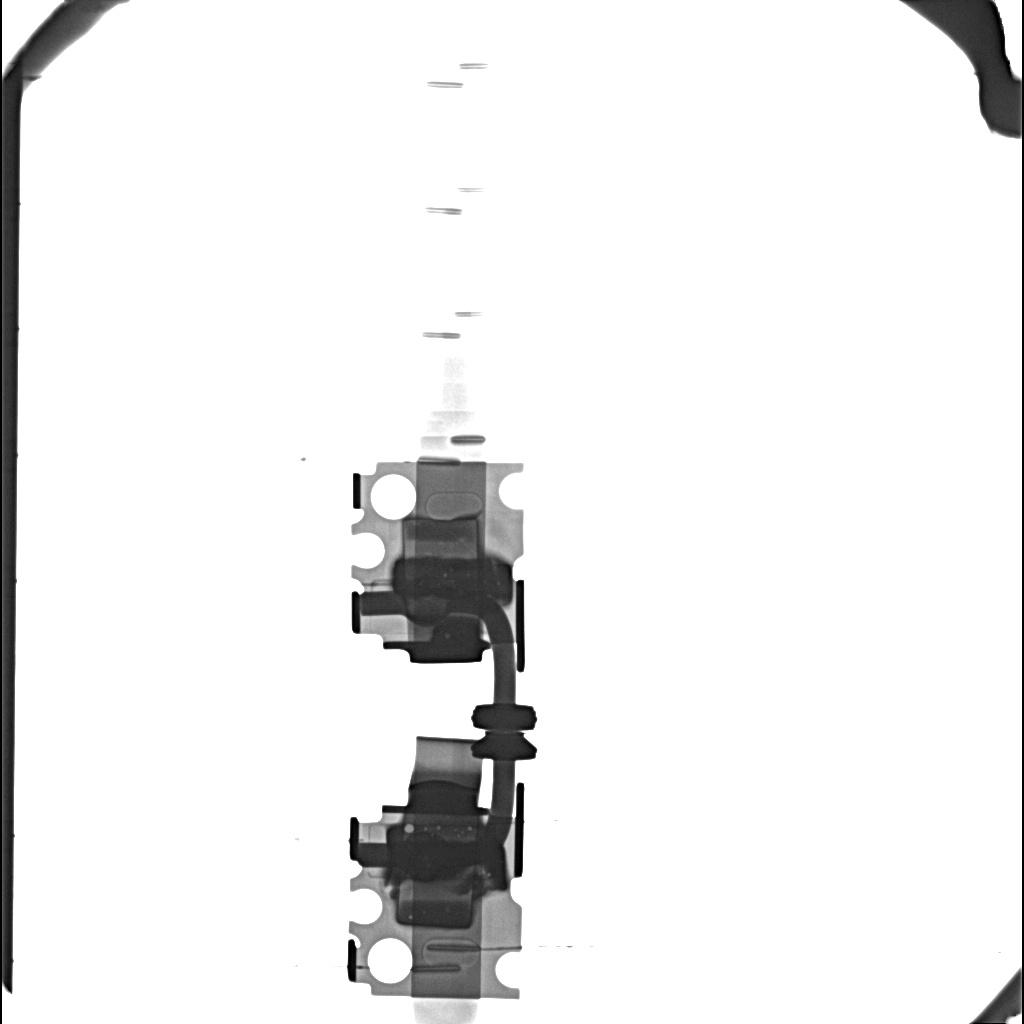气孔: (396, 870, 475, 930), (402, 517, 479, 556)
气泡: (405, 824, 414, 833)
水纹: (391, 559, 513, 599), (390, 842, 481, 878)
